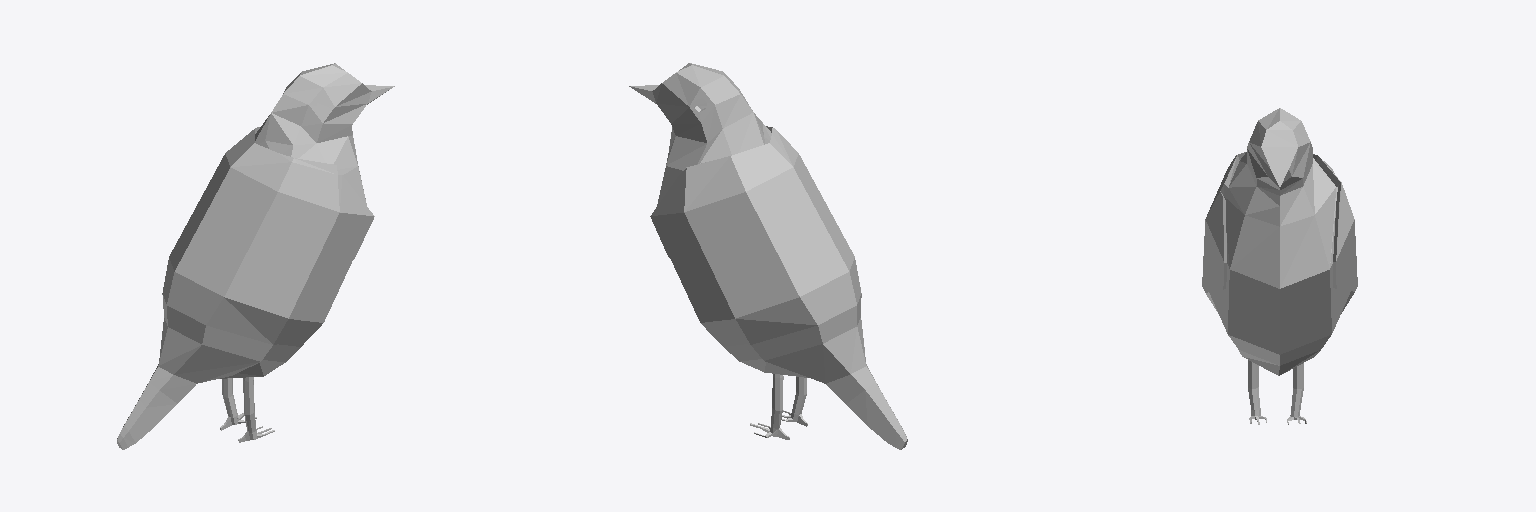
Rendered from Low_Poly_Bird.obj.
3 renders of one model, left to right at view 1: azimuth 30°, elevation 25°; view 2: azimuth 150°, elevation 25°; view 3: azimuth 270°, elevation 25°, orthographic.
Visible parts, largest first — view 1: Cylinder; view 2: Cylinder; view 3: Cylinder.
Part boxes in pixels (left/top/right/bottom): Cylinder: left=117, top=63, right=394, bottom=449; Cylinder: left=629, top=63, right=907, bottom=449; Cylinder: left=1202, top=108, right=1357, bottom=424.
Size of the model in its own units: 4.47 by 5.29 by 2.17.